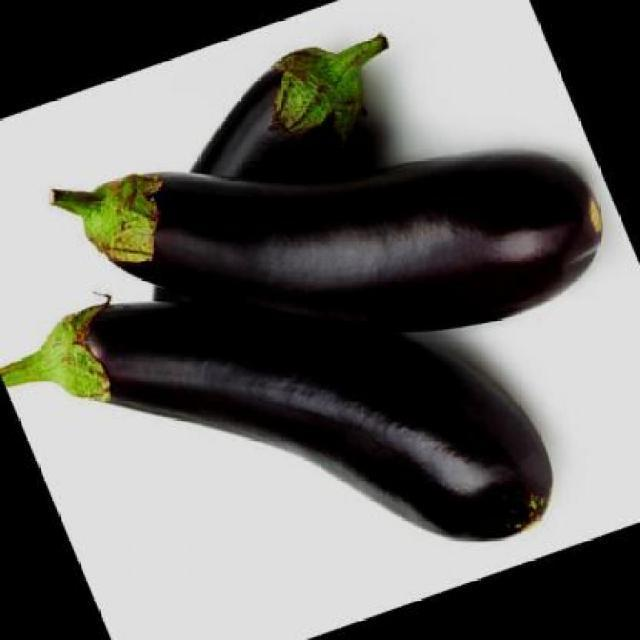eggplant: (1, 299, 556, 546), (54, 150, 604, 332), (184, 32, 391, 190)
